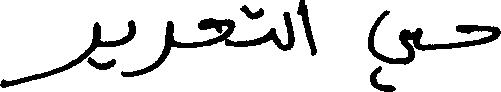X: (0, 17, 99, 91), (367, 5, 421, 91), (136, 16, 172, 80), (457, 20, 500, 52), (199, 13, 234, 51), (300, 0, 317, 60), (126, 15, 134, 81), (283, 7, 294, 55), (267, 23, 274, 47)
